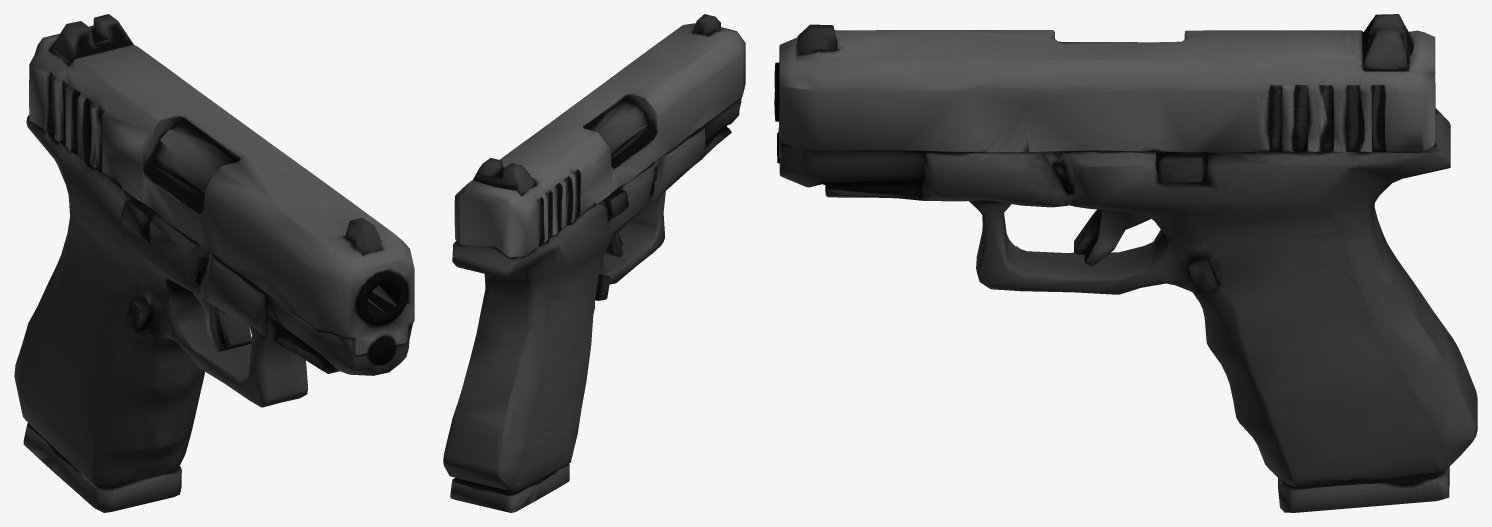
The model's file is pistol_a.glb.
The picture shows the model from 3 angles, left to right: view 1: azimuth 30°, elevation 25°; view 2: azimuth 150°, elevation 25°; view 3: azimuth 270°, elevation 25°; orthographic projection. The views are drawn at different scales.
Parts seen in each view (by area): view 1: Mesh_w; view 2: Mesh_w; view 3: Mesh_w.
Part boxes in pixels (x1,y1,x2,y2): Mesh_w: (14, 14, 414, 512); Mesh_w: (443, 14, 745, 512); Mesh_w: (774, 14, 1477, 512).
Size of the model in its own units: 0.0365 by 0.1298 by 0.1766.
1 material, 1 textured.
